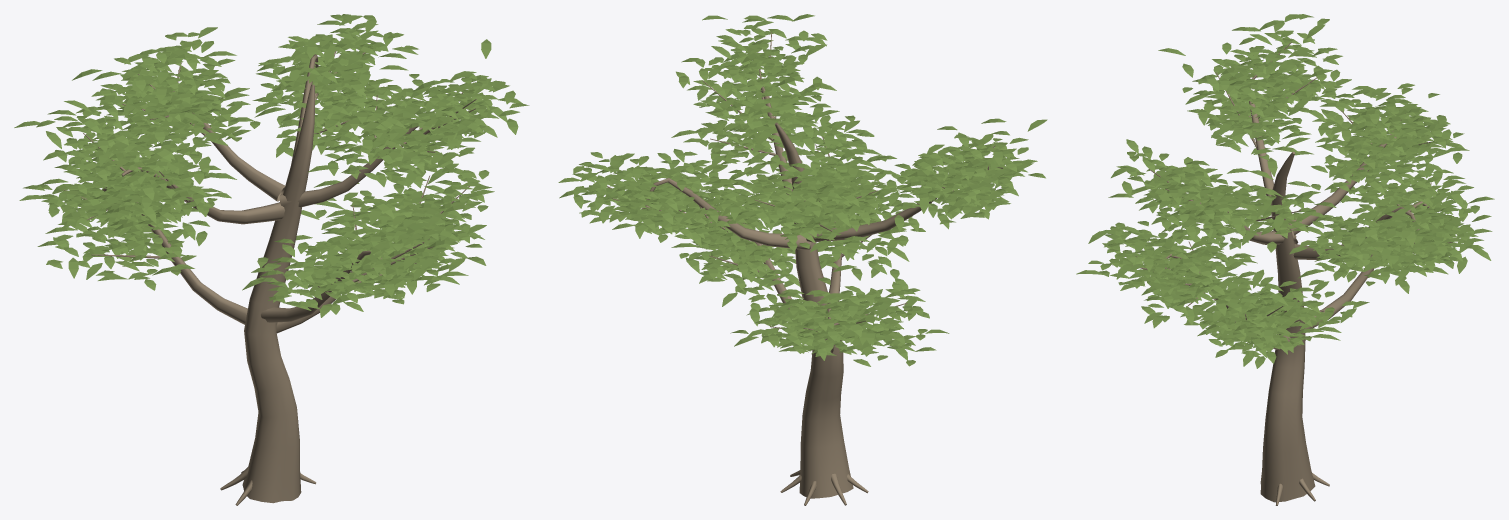
The model's file is canopy_lod0.glb.
3 renders of one model, left to right at view 1: azimuth 30°, elevation 25°; view 2: azimuth 150°, elevation 25°; view 3: azimuth 270°, elevation 25°, orthographic. The views are drawn at different scales.
Visible parts, largest first — view 1: Leaves, Bark; view 2: Leaves, Bark; view 3: Leaves, Bark.
Boxes of the visible parts, <box> form: Leaves: <box>14,14,529,317</box>; Bark: <box>64,51,476,505</box>; Leaves: <box>558,14,1047,366</box>; Bark: <box>607,32,1002,505</box>; Leaves: <box>1076,14,1494,368</box>; Bark: <box>1125,42,1452,505</box>.
Bounding box in the file's own units: 11.11 × 10.55 × 9.91.
